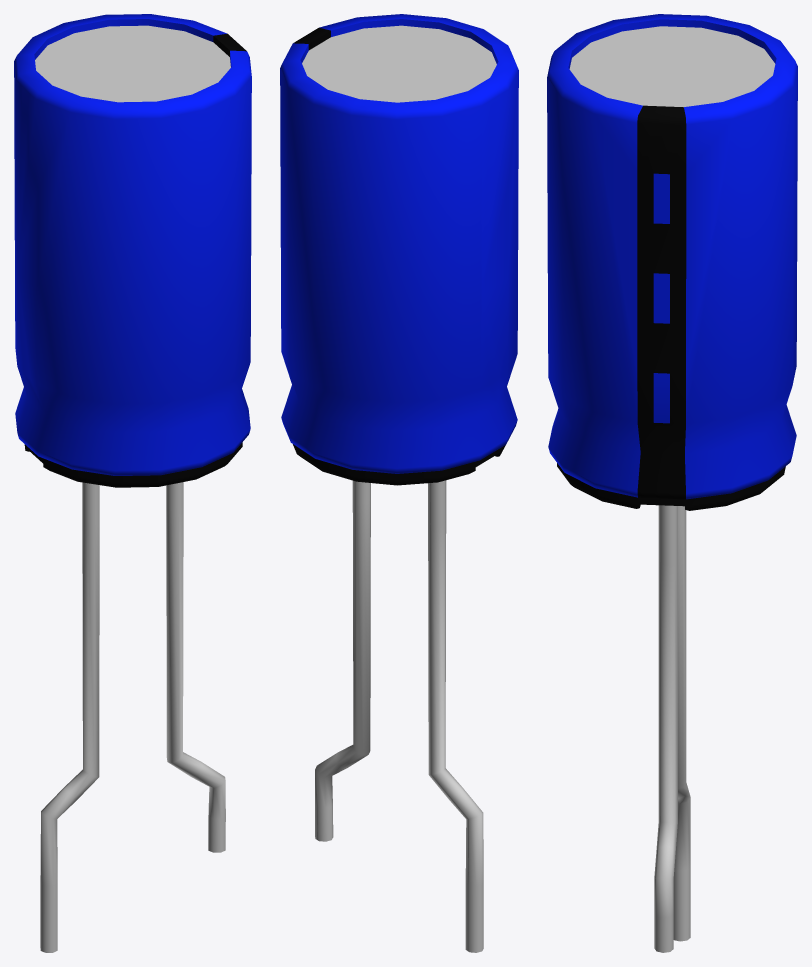
File: capacitor.obj
3 views of the same model, side by side, from view 1: azimuth 30°, elevation 25°; view 2: azimuth 150°, elevation 25°; view 3: azimuth 270°, elevation 25° (orthographic). The views are drawn at different scales.
Parts seen in each view (by area): view 1: Capacitor, Legs.001, Lid; view 2: Capacitor, Legs.001, Lid; view 3: Capacitor, Legs.001, Lid.
Boxes of the visible parts, <box> form: Capacitor: <box>14,14,251,487</box>; Legs.001: <box>40,482,225,952</box>; Lid: <box>35,25,230,102</box>; Capacitor: <box>280,14,518,485</box>; Legs.001: <box>315,480,483,952</box>; Lid: <box>302,25,496,102</box>; Capacitor: <box>547,14,797,510</box>; Legs.001: <box>654,505,690,952</box>; Lid: <box>569,26,775,107</box>.
Bounding box in the file's own units: 0.00646 × 0.026 × 0.00646.
